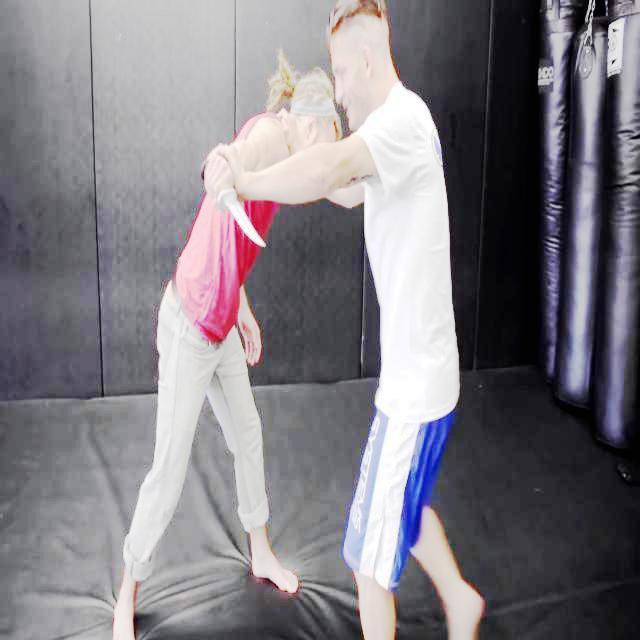Knife: (208, 177, 272, 253)
